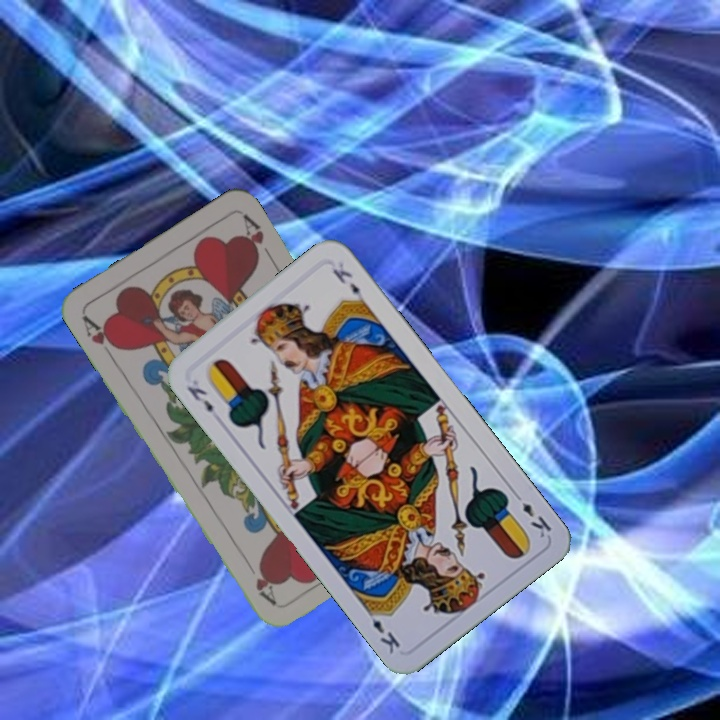EK: (509, 487, 555, 541), (182, 381, 216, 415)
HA: (78, 310, 122, 363)
